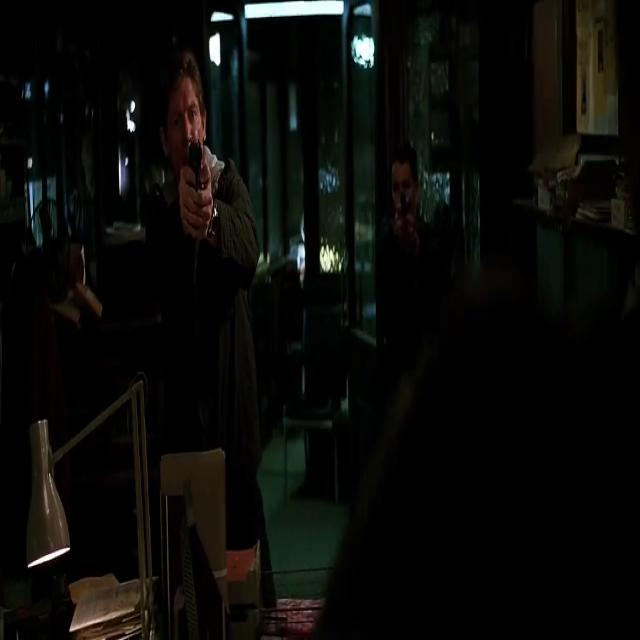People: (360, 8, 640, 640), (139, 49, 278, 482), (376, 146, 440, 404)
Table: (0, 508, 338, 640)
chair: (285, 258, 370, 524)
